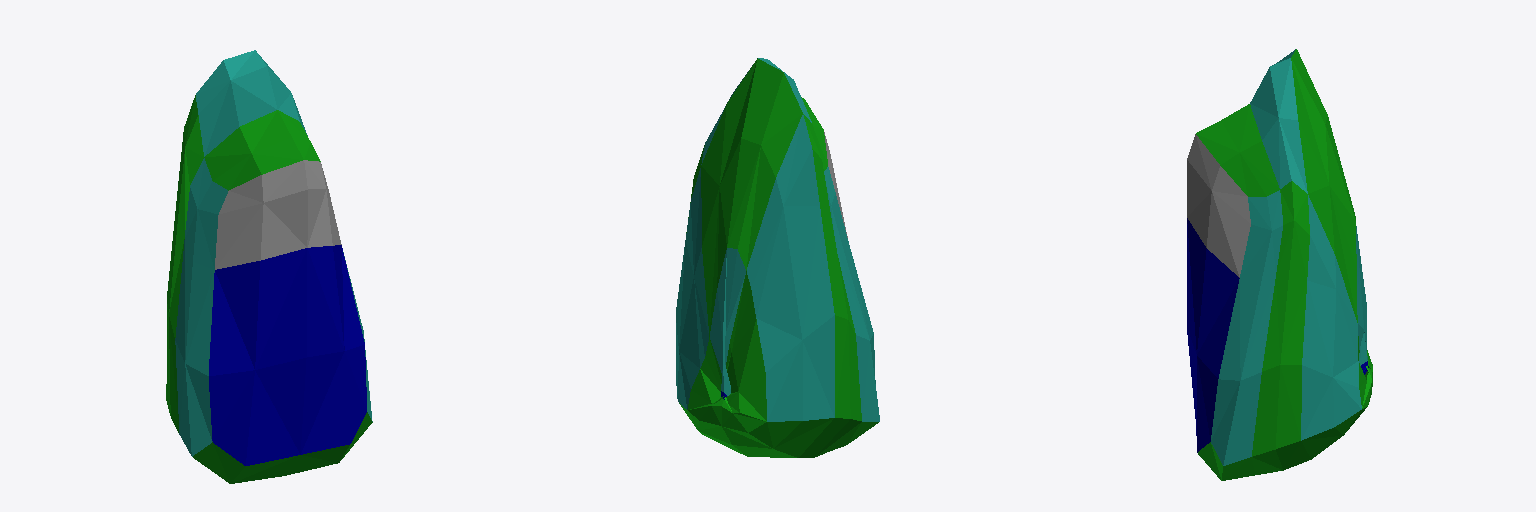
Rendered from player.obj.
The picture shows the model from 3 angles: view 1: azimuth 30°, elevation 25°; view 2: azimuth 150°, elevation 25°; view 3: azimuth 270°, elevation 25°; orthographic projection.
Visible parts, largest first — view 1: Cube; view 2: Cube; view 3: Cube.
Boxes of the visible parts, box(x1,y1,x2,y2) form: Cube: box(166, 50, 372, 483); Cube: box(676, 58, 879, 457); Cube: box(1187, 49, 1372, 480).
Bounding box in the file's own units: 0.7437 × 1.62 × 0.6817.